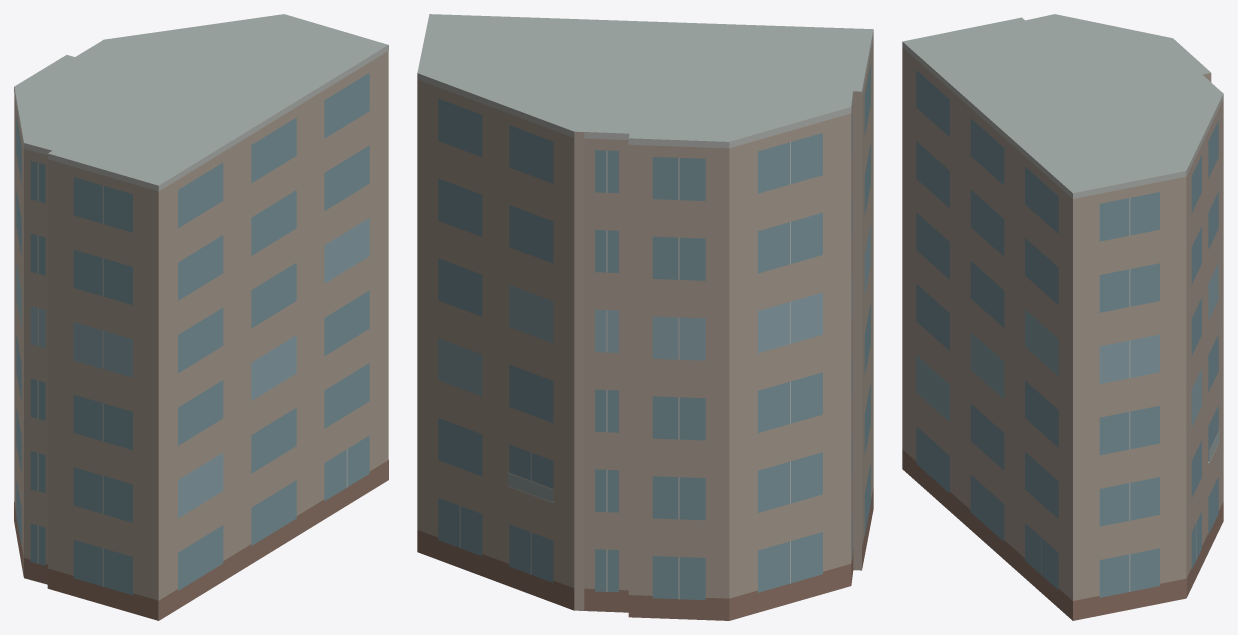
The model's file is survey-upis-32733441.glb.
3 views of the same model, side by side, from view 1: azimuth 30°, elevation 25°; view 2: azimuth 150°, elevation 25°; view 3: azimuth 270°, elevation 25° (orthographic). The views are drawn at different scales.
Parts seen in each view (by area): view 1: survey-upis-32733441.tmp; view 2: survey-upis-32733441.tmp; view 3: survey-upis-32733441.tmp.
Boxes of the visible parts, bbox=[...] form: survey-upis-32733441.tmp: bbox=[14, 14, 388, 620]; survey-upis-32733441.tmp: bbox=[417, 14, 873, 620]; survey-upis-32733441.tmp: bbox=[902, 14, 1223, 620].
Size of the model in its own units: 16.47 by 18.3 by 12.47.
